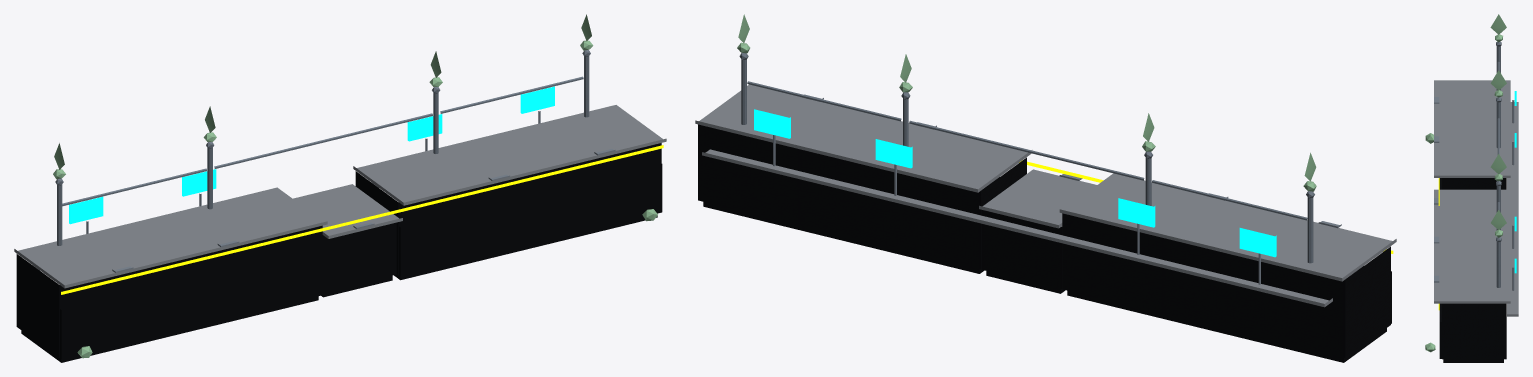
Rendered from v3_branch_desk.glb.
3 renders of one model, left to right at view 1: azimuth 30°, elevation 25°; view 2: azimuth 150°, elevation 25°; view 3: azimuth 270°, elevation 25°, orthographic. The views are drawn at different scales.
Visible parts, largest first — view 1: Desk_Body_L, Desk_Body_R, Desk_Top_R, Desk_Top_L, Desk_Body_A, Branch_Post, Desk_Top_A, Staff_Screens, Court_Line_LED, Fork_Leaves; view 2: Desk_Body_L, Desk_Body_R, Desk_Top_L, Desk_Top_R, Staff_Ledge, Desk_Body_A, Branch_Post, Desk_Top_A, Staff_Screens, Fork_Leaves; view 3: Desk_Top_R, Desk_Top_L, Desk_Body_R, Staff_Ledge, Desk_Top_A, Fork_Leaves, Branch_Post, Desk_Body_L, Staff_Monitor_Arms, Staff_Screens, Ticket_Pads, End_Tufts.
Boxes of the visible parts, x1,y1,x2,y2 form: Desk_Body_L: (16,225,323,362); Desk_Body_R: (355,143,662,280); Desk_Top_R: (353,105,666,205); Desk_Top_L: (14,187,327,288); Desk_Body_A: (321,222,396,297); Branch_Post: (55,50,590,245); Desk_Top_A: (293,184,402,238); Staff_Screens: (69,86,554,224); Court_Line_LED: (61,145,663,294); Fork_Leaves: (53,14,593,179); Desk_Body_L: (1062,213,1391,362); Desk_Body_R: (698,124,1026,273); Desk_Top_L: (1059,173,1396,281); Desk_Top_R: (695,84,1032,192); Staff_Ledge: (702,149,1332,307); Desk_Body_A: (981,210,1065,293); Branch_Post: (739,53,1314,263); Desk_Top_A: (979,169,1096,228); Staff_Screens: (754,109,1276,257); Fork_Leaves: (737,14,1316,191); Desk_Top_R: (1434,206,1510,303); Desk_Top_L: (1434,80,1510,177); Desk_Body_R: (1439,303,1506,362); Staff_Ledge: (1507,102,1518,316); Desk_Top_A: (1434,189,1510,205); Fork_Leaves: (1490,14,1506,237); Branch_Post: (1496,41,1501,287); Desk_Body_L: (1439,178,1506,189); Staff_Monitor_Arms: (1512,100,1514,290); Staff_Screens: (1514,91,1516,273); Ticket_Pads: (1434,97,1439,282); End_Tufts: (1425,133,1435,352).
Size of what is drawn, in the model's own units: 8 by 2.35 by 1.41.
7 materials, 3 textured.
